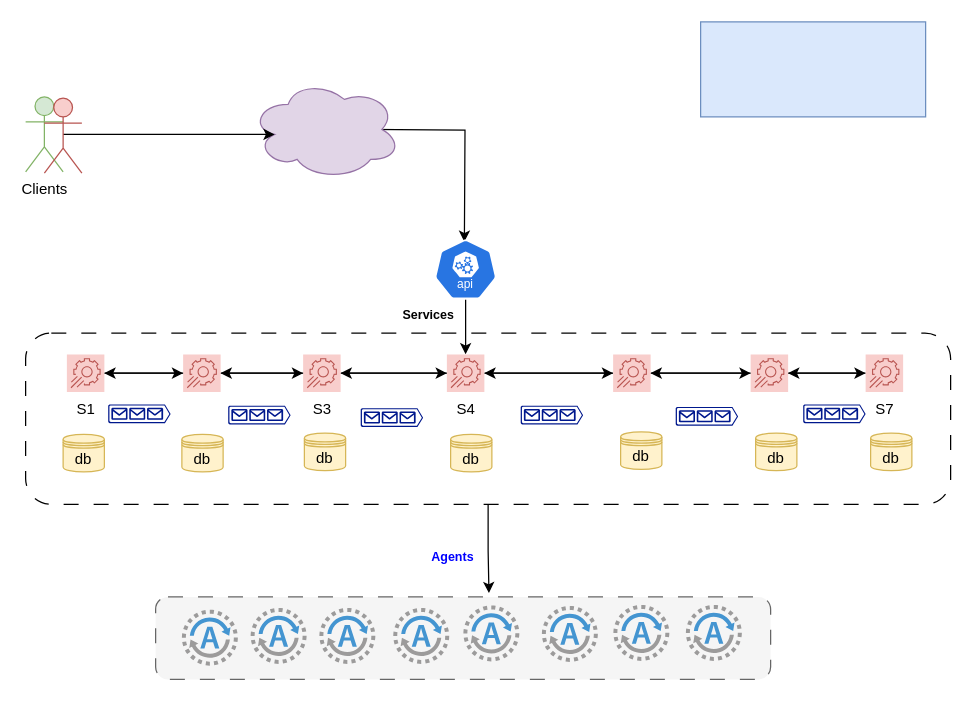
Some shapes in this 973 by 701 pixel diagram are drawn without their labels. The centre of each missing label's shape, as x and y in pixels:
"Internet" belongs at (325,128).
"S2" belongs at (201,372).
"S5" belongs at (631,372).
"S6" belongs at (768,372).
"Sample 1 System Design Agent Design" belongs at (812,69).
